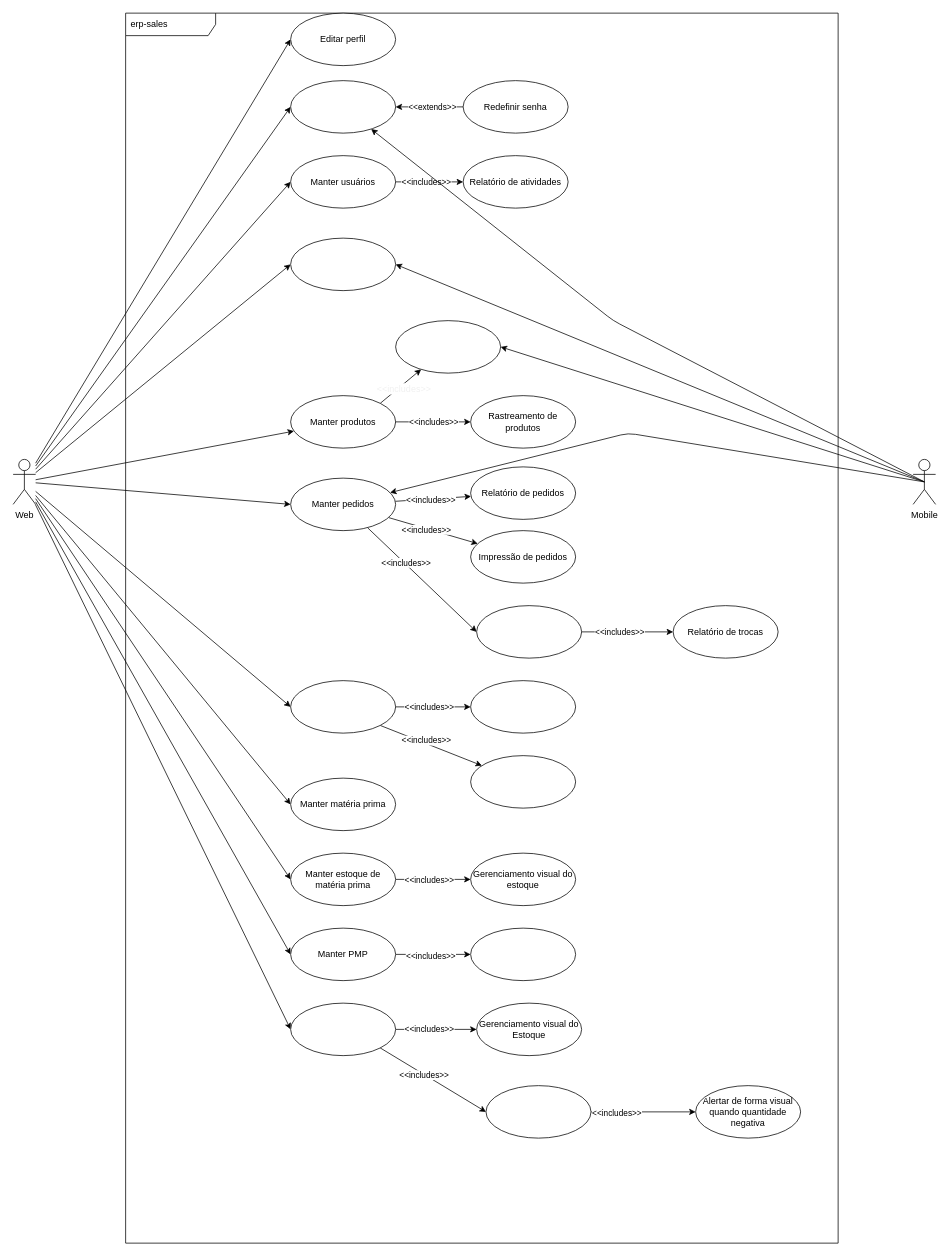
The diagram is 950 pixels wide and 1256 high, and some of its shapes have lost their labels. The centre of each missing label's shape, as x and y in pixels:
Autenticar: (343,106)
Calcular capacidade de produção por mês: (523,954)
Emitir relação de carga: (523,706)
Gerenciar estoque temporário: (538,1111)
Listar produtos: (448,346)
Manter clientes: (343,264)
Manter Estoque: (343,1029)
Manter relação de entrega definitiva: (523,781)
Manter relação de entrega temporária: (343,706)
Manter Trocas: (529,631)
